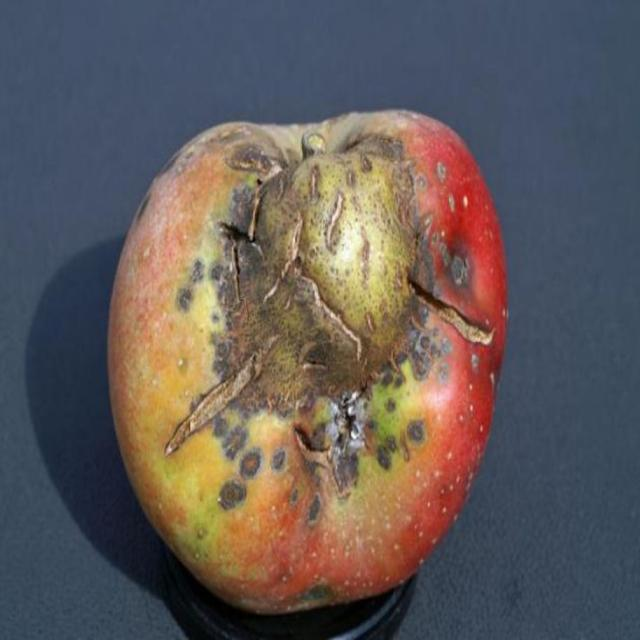Rotten Apple: (111, 88, 522, 617)
